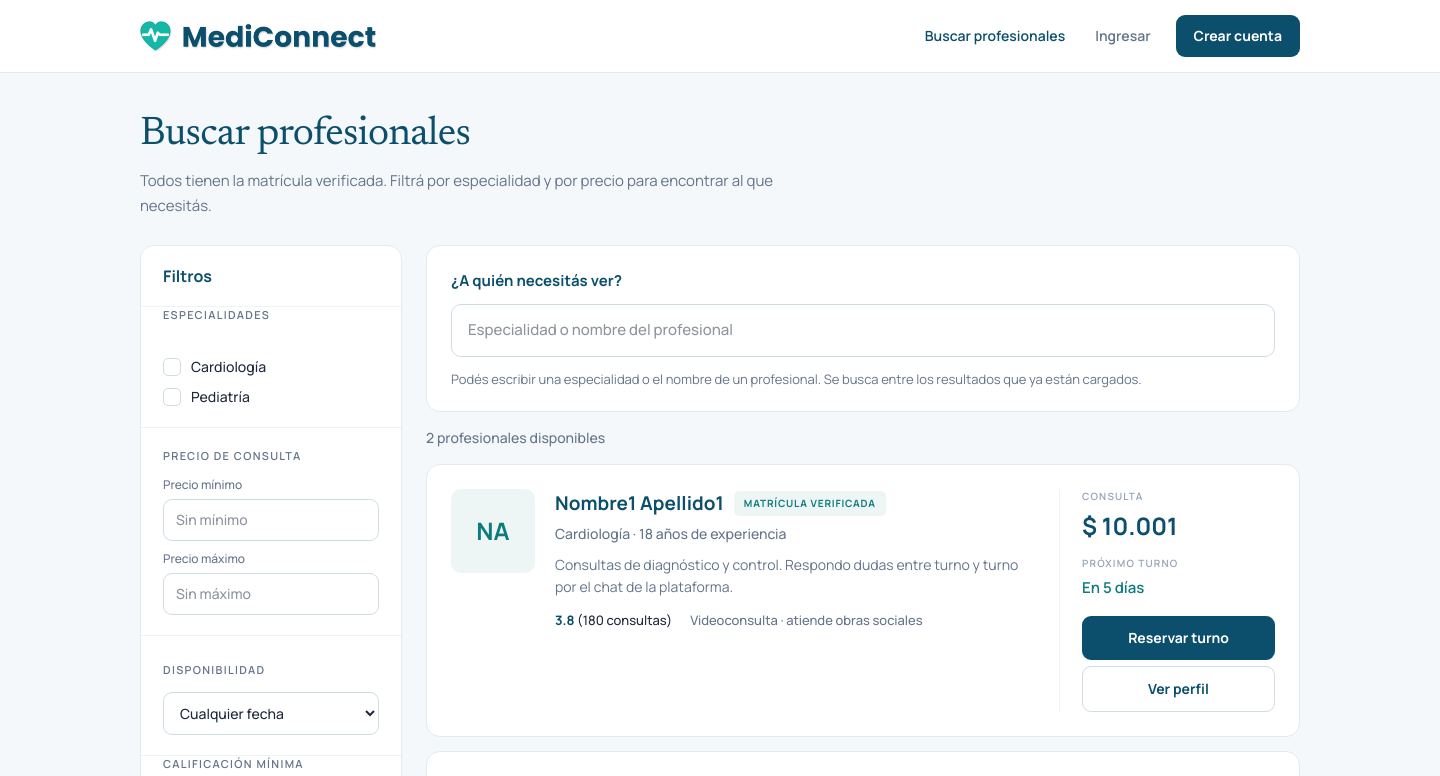
Test case: CatalogPage (ENG-49) › muestra un mensaje claro cuando los filtros no dan resultados
The width and height of the screenshot is (1440, 776).
Expected: the heading "Nombre1 Apellido1" is shown, x1=555 y1=489 x2=724 y2=518
Click the checkbox labelled "Pediatría": (206, 396) x1=163 y1=387 x2=250 y2=406
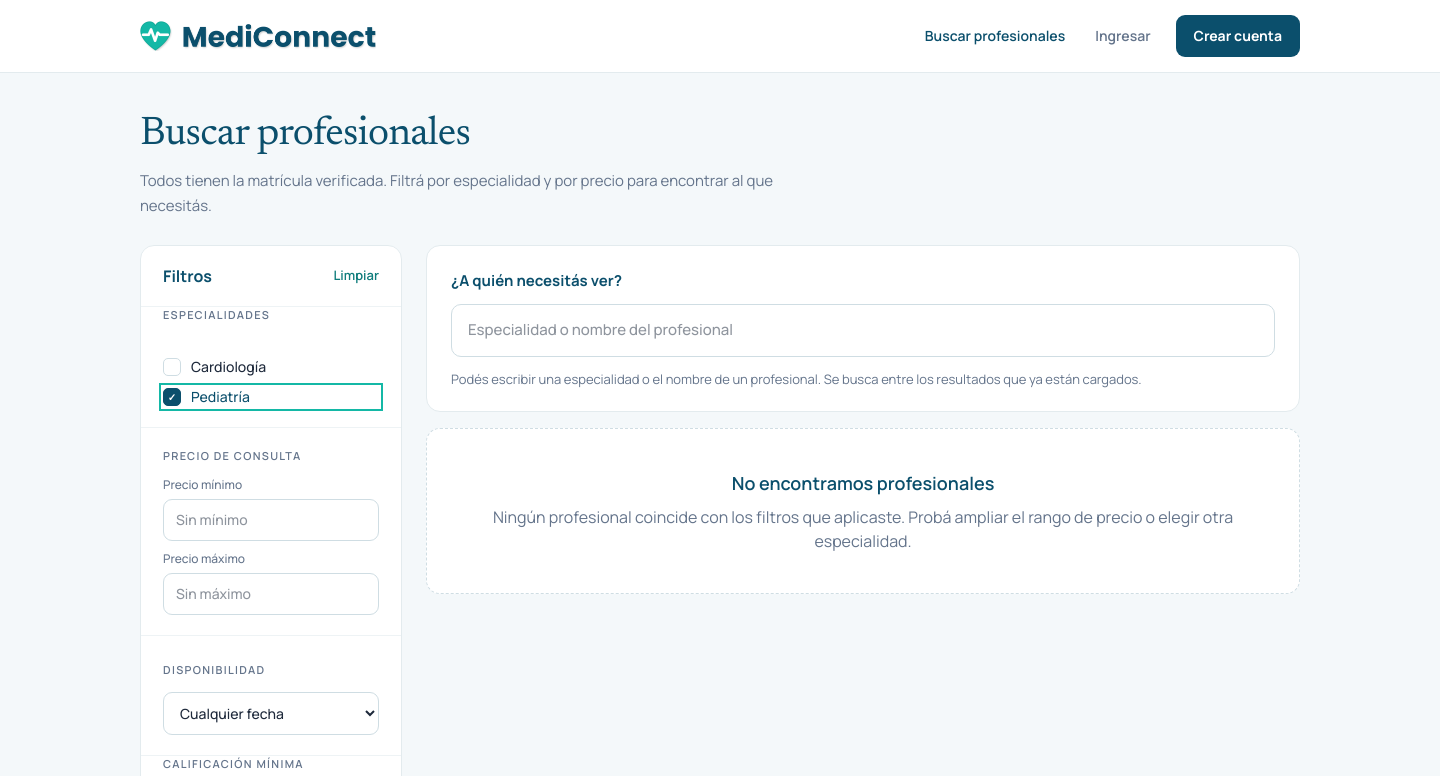
Result: the text "No encontramos profesionales" is shown at x1=732 y1=471 x2=994 y2=495
Result: the text "Ningún profesional coincide con los filtros" is shown at x1=493 y1=506 x2=1233 y2=552
